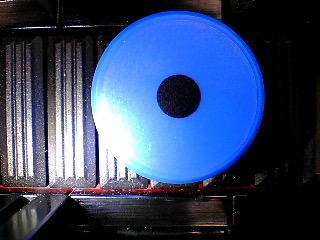BOHO: (90, 10, 265, 184)
